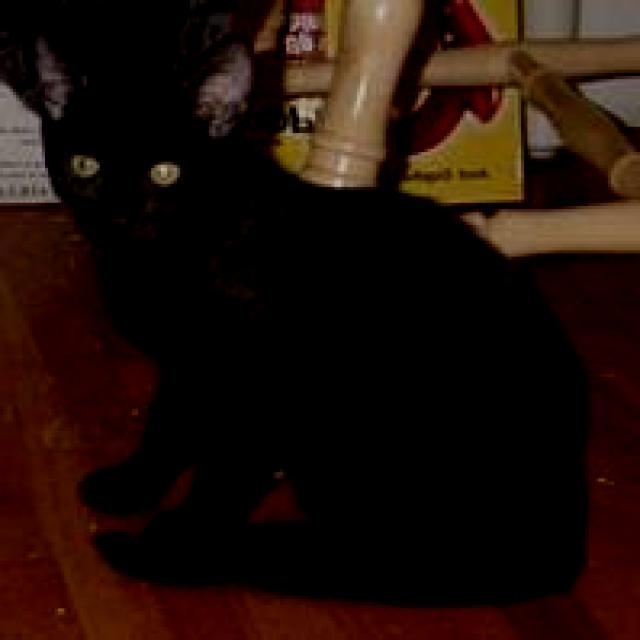Kucing: (39, 8, 592, 606)
